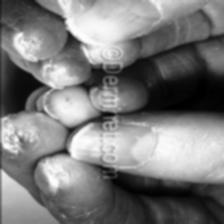Non-Cancerous Skin Condition: (0, 86, 99, 224), (132, 134, 224, 224), (133, 0, 224, 80)
